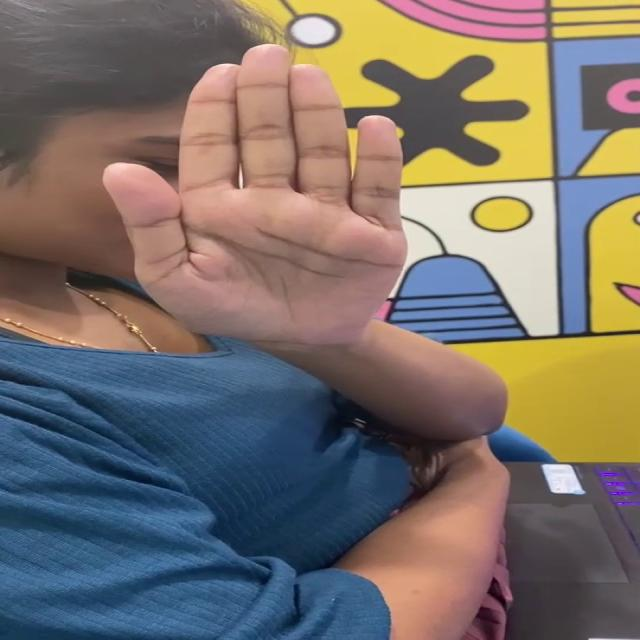no-gloves: (82, 32, 479, 352)
